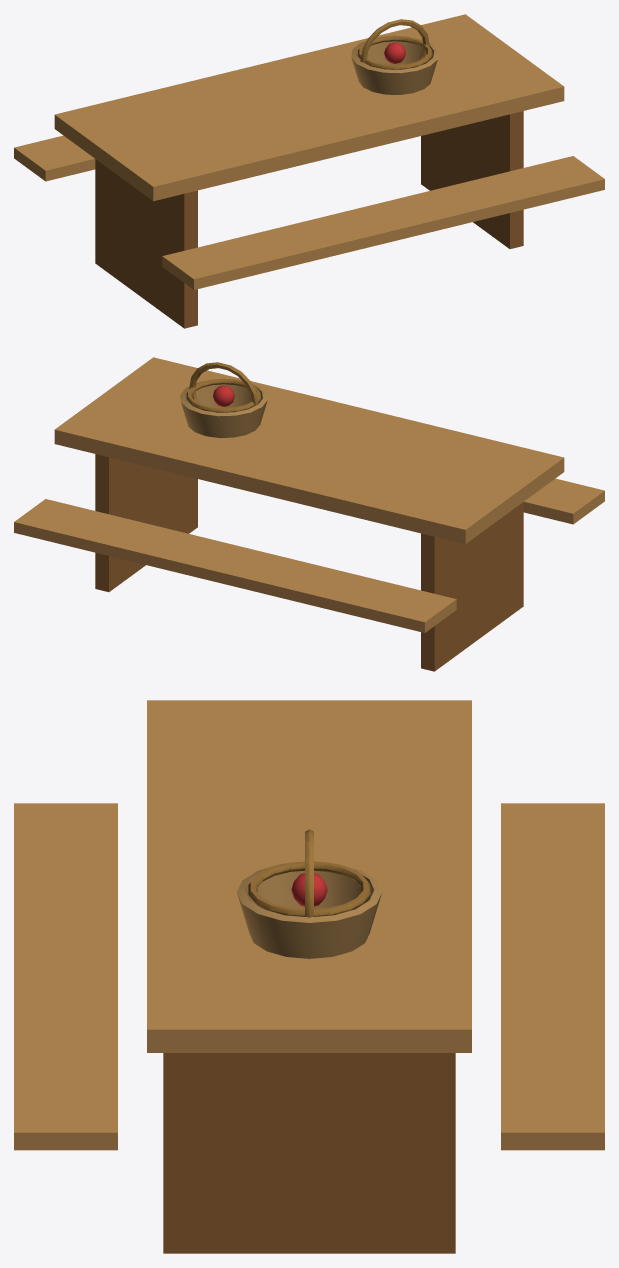
File: picnic_table.glb
The picture shows the model from 3 angles, top to bottom: view 1: azimuth 30°, elevation 25°; view 2: azimuth 150°, elevation 25°; view 3: azimuth 270°, elevation 25°; orthographic projection. The views are drawn at different scales.
Visible parts, largest first — view 1: decor-picnic_table; view 2: decor-picnic_table; view 3: decor-picnic_table.
Part boxes in pixels (box(x1,y1,x2,y2)): decor-picnic_table: box(14, 14, 604, 328); decor-picnic_table: box(14, 357, 604, 671); decor-picnic_table: box(14, 700, 604, 1253).
Size of the model in its own units: 2.4 by 1.19 by 1.82.
